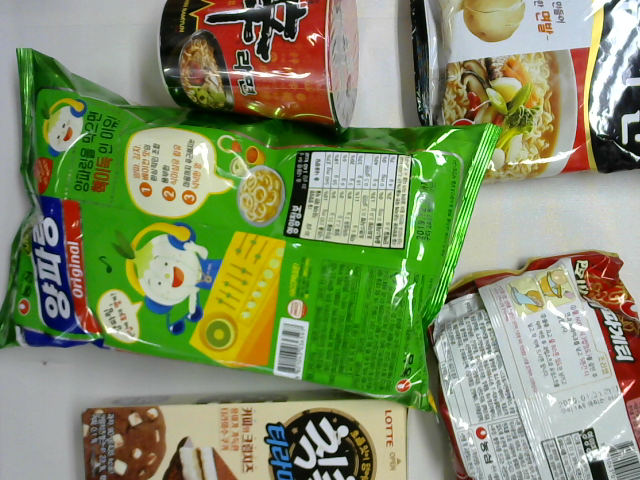Chicchok_Tiramisu: (76, 391, 416, 480)
Oninon_Ring: (5, 47, 503, 416)
Potato: (408, 1, 640, 191)
Sichuan_Chapaghetti: (421, 246, 638, 480)
Sinramen_small: (154, 1, 364, 141)
